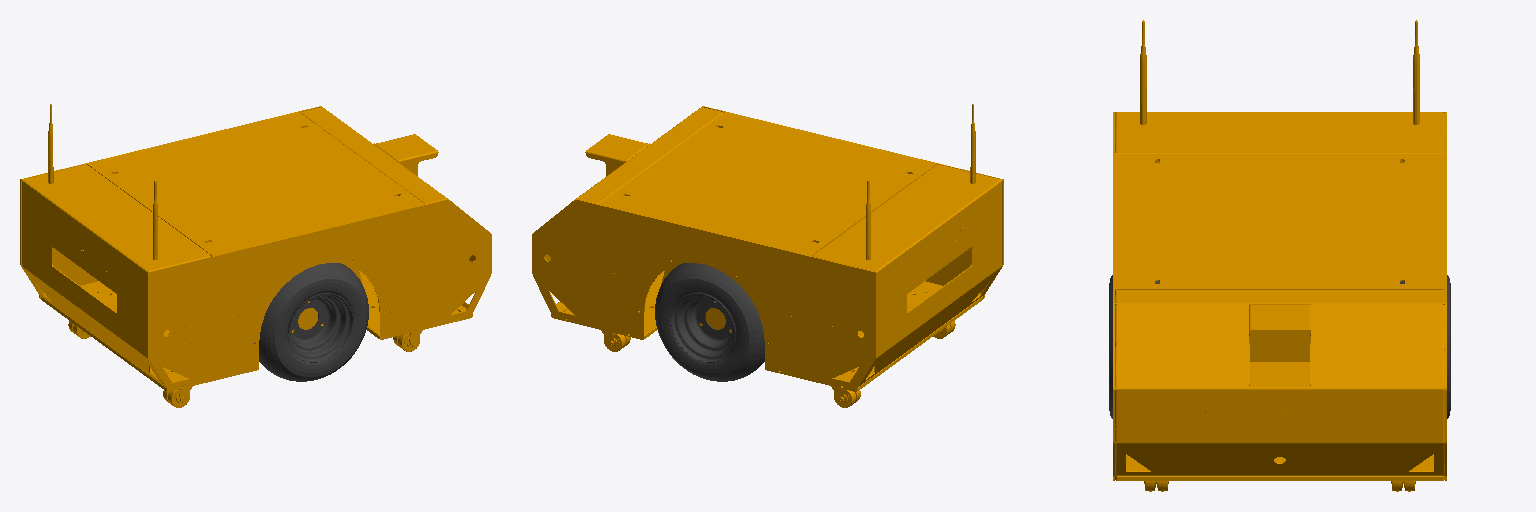
URDF robot description (mover):
<?xml version='1.0'?>
<robot
  name="mover">
  <link
    name="base_link">
    <inertial>
      <origin
        xyz="0 0 0"
        rpy="0 0 0" />
      <mass
        value="50" />
      <inertia
        ixx="0.5503"
        ixy="-8.9614E-06"
        ixz="0.012965"
        iyy="0.86245"
        iyz="-4.7241E-06"
        izz="1.1183" />
    </inertial>
    <visual>
      <origin
        xyz="0 0 0"
        rpy="0 0 0" />
      <geometry>
        <mesh
          filename="package://allians/robots/mover/meshes/base_link.STL" />
      </geometry>
    </visual>
    <collision>
      <origin
        xyz="0 0 0"
        rpy="0 0 0" />
      <geometry>
        <mesh
          filename="package://allians/robots/mover/meshes/base_link.STL" />
      </geometry>
    </collision>
    <visual>
      <origin
        xyz="-0.305 -0.217 0.0625"
        rpy="0 0 0" />
      <geometry>
        <mesh
          filename="package://allians/robots/mover/meshes/left_back.STL" />
      </geometry>
    </visual>
    <collision>
      <origin
        xyz="-0.305 -0.217 0.0625"
        rpy="0 0 0" />
      <geometry>
        <mesh
          filename="package://allians/robots/mover/meshes/left_back.STL" />
      </geometry>
    </collision>        
    <visual>
      <origin
        xyz="0.305 -0.217 0.0625"
        rpy="0 0 0" />
      <geometry>
        <mesh
          filename="package://allians/robots/mover/meshes/left_back.STL" />
      </geometry>
    </visual>
    <collision>
      <origin
        xyz="0.305 -0.217 0.0625"
        rpy="0 0 0" />
      <geometry>
        <mesh
          filename="package://allians/robots/mover/meshes/left_back.STL" />
      </geometry>
    </collision>
    <visual>
      <origin
        xyz="0.305 0.217 0.0625"
        rpy="0 0 0" />
      <geometry>
        <mesh
          filename="package://allians/robots/mover/meshes/left_back.STL" />
      </geometry>
    </visual>
    <collision>
      <origin
        xyz="0.305 0.217 0.0625"
        rpy="0 0 0" />
      <geometry>
        <mesh
          filename="package://allians/robots/mover/meshes/left_back.STL" />
      </geometry>
    </collision>
    <visual>
      <origin
        xyz="-0.305 0.217 0.0625"
        rpy="0 0 0" />
      <geometry>
        <mesh
          filename="package://allians/robots/mover/meshes/left_back.STL" />
      </geometry>
    </visual>
    <collision>
      <origin
        xyz="-0.305 0.217 0.0625"
        rpy="0 0 0" />
      <geometry>
        <mesh
          filename="package://allians/robots/mover/meshes/left_back.STL" />
      </geometry>
    </collision>
  </link>
<!---==================================================================================================================================-->
  
  <gazebo reference="base_link">
    <mu1>0</mu1>
    <mu2>0</mu2>
    <material>Gazebo/Grey</material>
  </gazebo>
<!---==================================================================================================================================-->  
  
  <link
    name="front_laser">
    <inertial>
      <origin
        xyz="0 0 0"
        rpy="0 0 0" />
      <mass
        value="0.3" />
      <inertia
        ixx="0.00013913"
        ixy="2.7365E-08"
        ixz="2.4265E-06"
        iyy="0.00013673"
        iyz="-4.5772E-08"
        izz="9.1699E-05" />
    </inertial>
    <visual>
      <origin
        xyz="0 0 0"
        rpy="0 0 0" />
      <geometry>
        <mesh
          filename="package://allians/robots/mover/meshes/sick_tim551.stl" />
      </geometry>
    </visual>
    <collision>
      <origin
        xyz="0 0 0"
        rpy="0 0 0" />
      <geometry>
        <mesh
          filename="package://allians/robots/mover/meshes/sick_tim551.stl" />
      </geometry>
    </collision>
  </link>
  <joint
    name="front_laser"
    type="fixed">
    <origin
      xyz="0.42654 0 0.34527"
      rpy="0 0 0" />
    <parent
      link="base_link" />
    <child
      link="front_laser" />
    <axis
      xyz="0 0 0" />
  </joint>
<!---==================================================================================================================================-->  
  <link
    name="back_laser">
    <inertial>
      <origin
        xyz="0 0 0"
        rpy="0 0 0" />
      <mass

        value="0.3" />
      <inertia
        ixx="0.00013913"
        ixy="2.7365E-08"
        ixz="2.4265E-06"
        iyy="0.00013673"
        iyz="-4.5772E-08"
        izz="9.1699E-05" />
    </inertial>
    <visual>
      <origin
        xyz="0 0 0"
        rpy="0 0 0" />
      <geometry>
        <mesh
          filename="package://allians/robots/mover/meshes/sick_tim551.stl" />
      </geometry>
    </visual>
    <collision>
      <origin
        xyz="0 0 0"

        rpy="0 0 0" />
      <geometry>
        <mesh
          filename="package://allians/robots/mover/meshes/sick_tim551.stl" />
      </geometry>
    </collision>
  </link>
  <joint
    name="back_laser"
    type="fixed">
    <origin

      xyz="-0.42654 0 0.45627"
      rpy="0 0 3.14" />
    <parent
      link="base_link" />
    <child
      link="back_laser" />
    <axis
      xyz="0 0 0" />
  </joint>
<!---==================================================================================================================================-->
  <gazebo reference="front_laser">
     <sensor type="ray" name="front_laser">
      <always_on>true</always_on>
      <visualize>true</visualize>
      <update_rate>15</update_rate>
      <ray>
        <scan>
          <horizontal>
            <samples>271</samples>
            <resolution>1</resolution>
            <min_angle>-1.57</min_angle>
            <max_angle>1.57</max_angle>
          </horizontal>
        </scan>
        <range>
          <min>0.10</min>
          <max>10.0</max>
          <resolution>0.01</resolution>
        </range>
      </ray>
      <plugin name="sick_tim561" filename="libgazebo_ros_laser.so">
        <gaussianNoise>0.005</gaussianNoise>
        <alwaysOn>true</alwaysOn>
        <updateRate>15</updateRate>
        <topicName>front/scan</topicName>
        <frameName>front_laser</frameName>
      </plugin>
    </sensor>
    <material>Gazebo/Yellow</material>
  </gazebo>
<!---==================================================================================================================================-->   
  <gazebo reference="back_laser">
     <sensor type="ray" name="back_laser">
      <always_on>true</always_on>
      <visualize>true</visualize>
      <update_rate>15</update_rate>
      <ray>
        <scan>
          <horizontal>
            <samples>271</samples>
            <resolution>1</resolution>
            <min_angle>-2.35619449019</min_angle>
            <max_angle>2.35619449019</max_angle>
          </horizontal>
        </scan>
        <range>
          <min>0.10</min>
          <max>10.0</max>
          <resolution>0.01</resolution>
        </range>
      </ray>
      <plugin name="sick_tim561" filename="libgazebo_ros_laser.so">
        <gaussianNoise>0.005</gaussianNoise>
        <alwaysOn>true</alwaysOn>
        <updateRate>15</updateRate>
        <topicName>back/scan</topicName>
        <frameName>back_laser</frameName>
      </plugin>
    </sensor>
    <material>Gazebo/Yellow</material>
  </gazebo>
<!---==================================================================================================================================-->
  <link
    name="right_wheel">
    <inertial>
      <origin
        xyz="8.3554E-10 -0.241 2.8445E-08"
        rpy="0 0 0" />
      <mass
        value="2.5" />
      <inertia
        ixx="0.016449"
        ixy="2.6288E-10"
        ixz="4.1984E-17"
        iyy="0.027311"
        iyz="8.9495E-09"
        izz="0.016449" />
    </inertial>
    <visual>
      <origin
        xyz="0 0 0"
        rpy="0 0 0" />
      <geometry>
        <mesh
          filename="package://allians/robots/mover/meshes/right_wheel.STL" />
      </geometry>
      <material
        name="">
        <color
          rgba="0.29804 0.29804 0.29804 1" />
      </material>
    </visual>
    <collision>
      <origin
        xyz="0 0 0"
        rpy="0 0 0" />
      <geometry>
        <mesh
          filename="package://allians/robots/mover/meshes/right_wheel.STL" />
      </geometry>
    </collision>
  </link>
  <joint
    name="right_wheel"
    type="continuous">
    <origin
      xyz="0 0 0.15"
      rpy="0 0 0" />
    <parent
      link="base_link" />
    <child
      link="right_wheel" />
    <axis
      xyz="0 1 0" />
  </joint>
  <link
    name="left_wheel">
    <inertial>
      <origin
        xyz="7.8515E-11 0.241 2.6729E-09"
        rpy="0 0 0" />
      <mass
        value="2.5" />
      <inertia
        ixx="0.016449"
        ixy="3.4632E-10"
        ixz="-1.5491E-17"
        iyy="0.027311"
        iyz="1.179E-08"
        izz="0.016449" />
    </inertial>
    <visual>
      <origin
        xyz="0 0 0"
        rpy="0 0 0" />
      <geometry>
        <mesh
          filename="package://allians/robots/mover/meshes/left_wheel.STL" />
      </geometry>
      <material
        name="">
        <color
          rgba="0.29804 0.29804 0.29804 1" />
      </material>
    </visual>
    <collision>
      <origin
        xyz="0 0 0"
        rpy="0 0 0" />
      <geometry>
        <mesh
          filename="package://allians/robots/mover/meshes/left_wheel.STL" />
      </geometry>
    </collision>
  </link>
  <joint
    name="left_wheel"
    type="continuous">
    <origin
      xyz="0 0 0.15"
      rpy="0 0 0" />
    <parent
      link="base_link" />
    <child
      link="left_wheel" />
    <axis
      xyz="0 1 0" />
  </joint>
<!---==================================================================================================================================-->
  <gazebo reference="right_wheel">
    <material>Gazebo/Black</material>
  </gazebo>
  <gazebo reference="left_wheel">
    <material>Gazebo/Black</material>
  </gazebo>
<!---==================================================================================================================================-->
  <link name="imu_link">
    <inertial>
      <mass value="0.001"/>
      <origin rpy="0 0 0" xyz="0 0 0.15"/>
      <inertia ixx="0.0001" ixy="0" ixz="0" iyy="0.000001" iyz="0" izz="0.0001"/>
    </inertial>
    <visual>
      <origin rpy="0 0 0" xyz="0 0 0"/>
      <geometry>
        <box size="0.001 0.001 0.001"/>
      </geometry>
    </visual>
    <collision>
      <origin rpy="0 0 0" xyz="0 0 0.15"/>
      <geometry>
        <box size=".001 .001 .001"/>
      </geometry>
    </collision>
  </link>
  <joint
    name="imu"
    type="fixed">
    <origin
      xyz="0 0 0.15"
      rpy="0 0 0" />
    <parent

      link="base_link" />
    <child

      link="imu_link" />
    <axis
      xyz="0 0 0" />
  </joint>
<!---==================================================================================================================================-->
  <gazebo>
     <plugin name="differential_drive_controller" filename="libgazebo_ros_diff_drive.so">
        <alwaysOn>true</alwaysOn>
        <updateRate>50</updateRate>
        <leftJoint>right_wheel</leftJoint>
        <rightJoint>left_wheel</rightJoint>
        <wheelSeparation>0.597</wheelSeparation>
        <wheelDiameter>0.3</wheelDiameter>
        <wheelTorque>40</wheelTorque>
        <commandTopic>cmd_vel</commandTopic>
        <odometryTopic>odom</odometryTopic>
        <odometryFrame>odom</odometryFrame>
        <robotBaseFrame>base_link</robotBaseFrame>
     </plugin>
  </gazebo>

<!---==================================================================================================================================-->
  <gazebo>
    <plugin filename="libgazebo_ros_imu.so" name="ros_imu">
      <updateRate>100</updateRate>
      <robotNamespace>/mover</robotNamespace>
      <topicName>imu_data</topicName>
      <bodyName>imu_link</bodyName>
      <frameName>base_link</frameName>
      <serviceName>/imu_service</serviceName>
      <gaussianNoise>0.005</gaussianNoise>
      <imu>
        <noise>
          <type>gaussian</type>
          <rate>
            <mean>0.0</mean>
            <stddev>2e-4</stddev>
            <bias_mean>0.0000075</bias_mean>
            <bias_stddev>0.0000008</bias_stddev>
          </rate>
          <accel>
            <mean>0.0</mean>
            <stddev>1.7e-2</stddev>
            <bias_mean>0.1</bias_mean>
            <bias_stddev>0.001</bias_stddev>
          </accel>
        </noise>
      </imu>
    </plugin>
  </gazebo>
</robot>

--- Render facts (derived) ---
The picture shows the robot from 3 angles, left to right: view 1: azimuth 30°, elevation 25°; view 2: azimuth 150°, elevation 25°; view 3: azimuth 270°, elevation 25°; orthographic projection.
Robot: mover — 6 links, 5 joints (2 continuous, 3 fixed); root link base_link; default pose: all joints at 0.
Links seen in each view (by area): view 1: base_link, right_wheel; view 2: base_link, left_wheel; view 3: base_link, right_wheel, left_wheel.
Boxes of the visible links, left/top/right/bottom form: base_link: left=20, top=104, right=491, bottom=407; right_wheel: left=254, top=263, right=368, bottom=381; base_link: left=532, top=104, right=1003, bottom=407; left_wheel: left=655, top=263, right=769, bottom=381; base_link: left=1113, top=20, right=1446, bottom=491; right_wheel: left=1109, top=275, right=1159, bottom=418; left_wheel: left=1400, top=275, right=1450, bottom=418.
Size in the robot's own frame: 0.9102 by 0.5997 by 0.5942 metres.
Meshes: 5 distinct files referenced, 7 mesh visuals loaded (4 binary STL); not drawn: 2 (reference not matched to a file when rendering).
